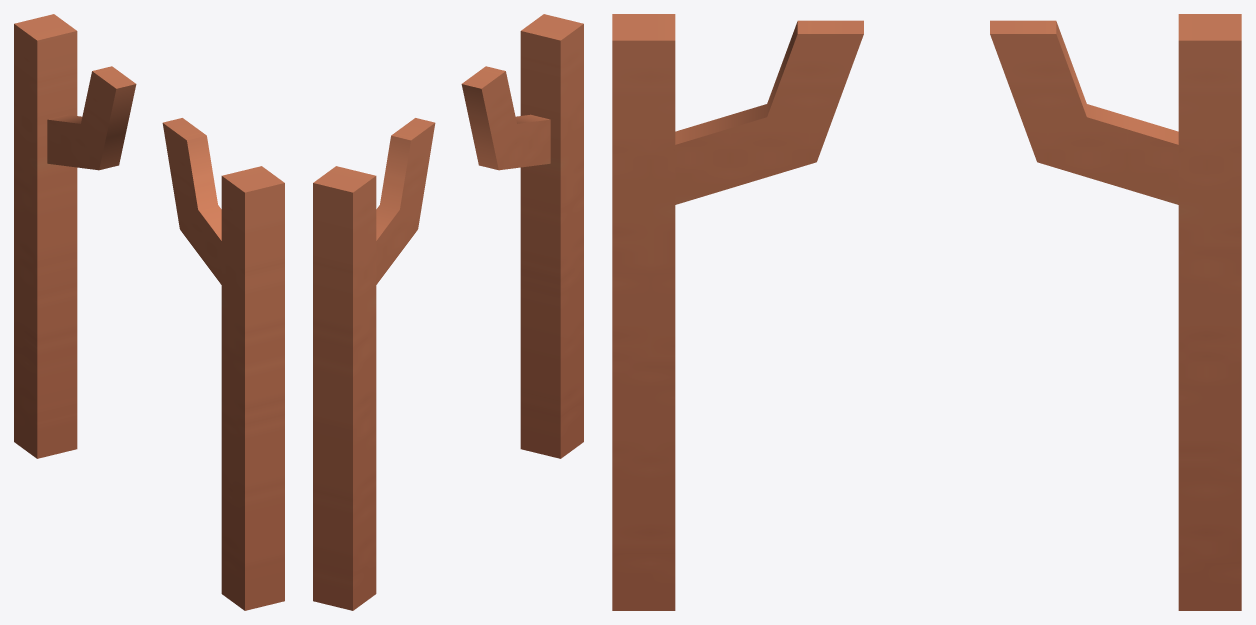
Rendered from balconyWall.fbx.
3 renders of one model, left to right at view 1: azimuth 30°, elevation 25°; view 2: azimuth 150°, elevation 25°; view 3: azimuth 270°, elevation 25°, orthographic. The views are drawn at different scales.
Parts seen in each view (by area): view 1: balconyWall; view 2: balconyWall; view 3: balconyWall.
Part boxes in pixels (<box>): balconyWall: <box>14,14,284,610</box>; balconyWall: <box>313,14,583,610</box>; balconyWall: <box>612,14,1241,610</box>.
Size of the model in its own units: 0.1 by 1 by 1.
